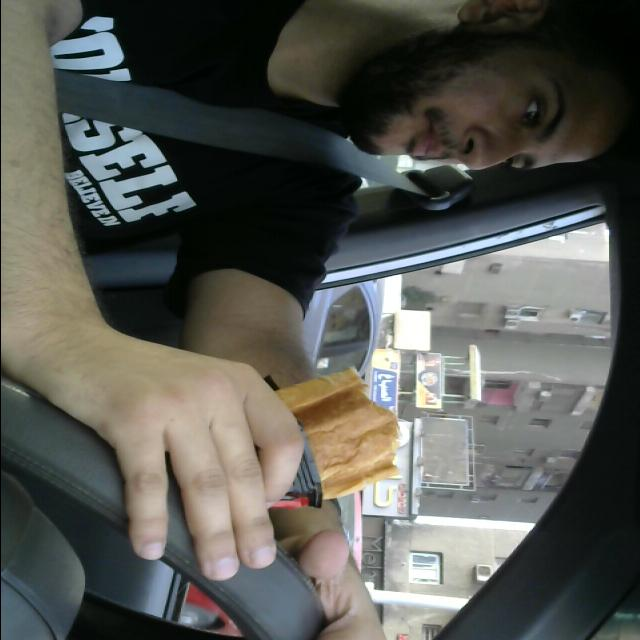eating: (136, 364, 400, 510)
